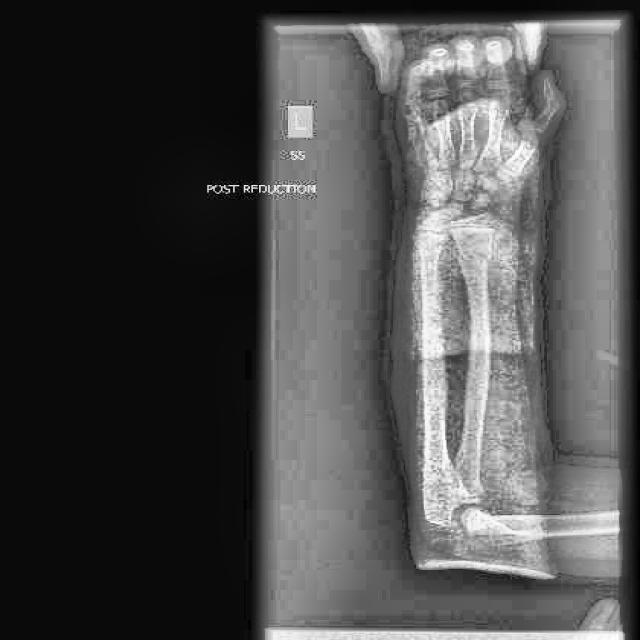forearm fracture: (444, 234, 516, 298)
